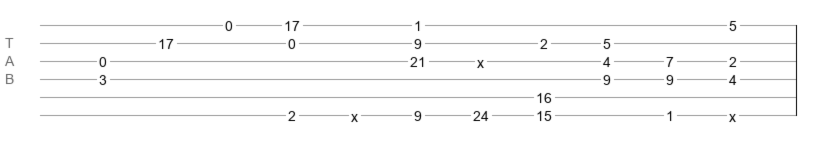0: (99, 54, 107, 64), (225, 18, 233, 28), (288, 36, 296, 46)
1: (414, 18, 422, 28), (666, 108, 674, 118)
15: (536, 108, 552, 118)
16: (536, 90, 552, 100)
17: (158, 36, 174, 46), (284, 18, 300, 28)
2: (288, 108, 296, 118), (540, 36, 548, 46), (729, 54, 737, 64)
21: (410, 54, 426, 64)
24: (473, 108, 489, 118)
3: (99, 72, 107, 82)
4: (603, 54, 611, 64), (729, 72, 737, 82)
5: (603, 36, 611, 46), (729, 18, 737, 28)
7: (666, 54, 674, 64)
9: (414, 36, 422, 46), (414, 108, 422, 118), (603, 72, 611, 82), (666, 72, 674, 82)
x: (351, 109, 358, 117), (477, 55, 484, 63), (729, 109, 736, 117)
